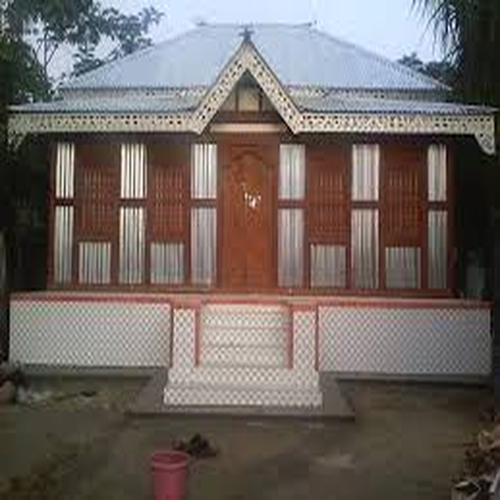Tin-shade House: (19, 15, 484, 397)
